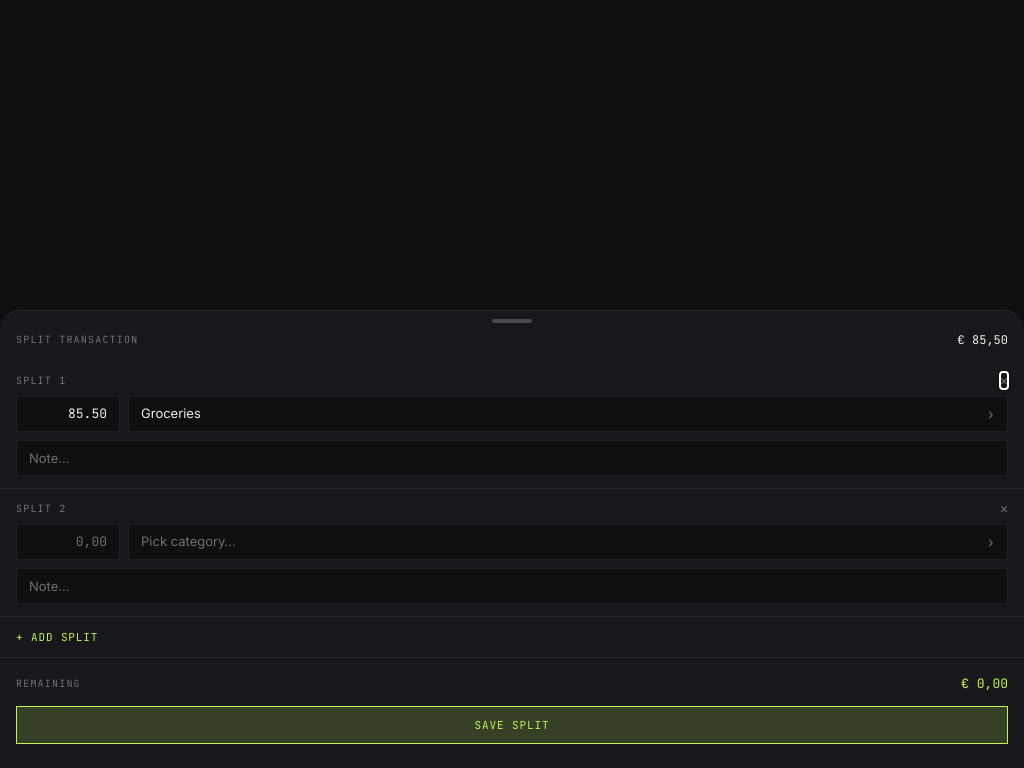
it: SplitEditorSheet › disables save while amounts do not sum to the transaction amount (live remainder)
The image size is (1024, 768).
Step 1. Replace the text in the field named "Amount for split 1" with "65" → (68, 414), box [16, 396, 120, 432]
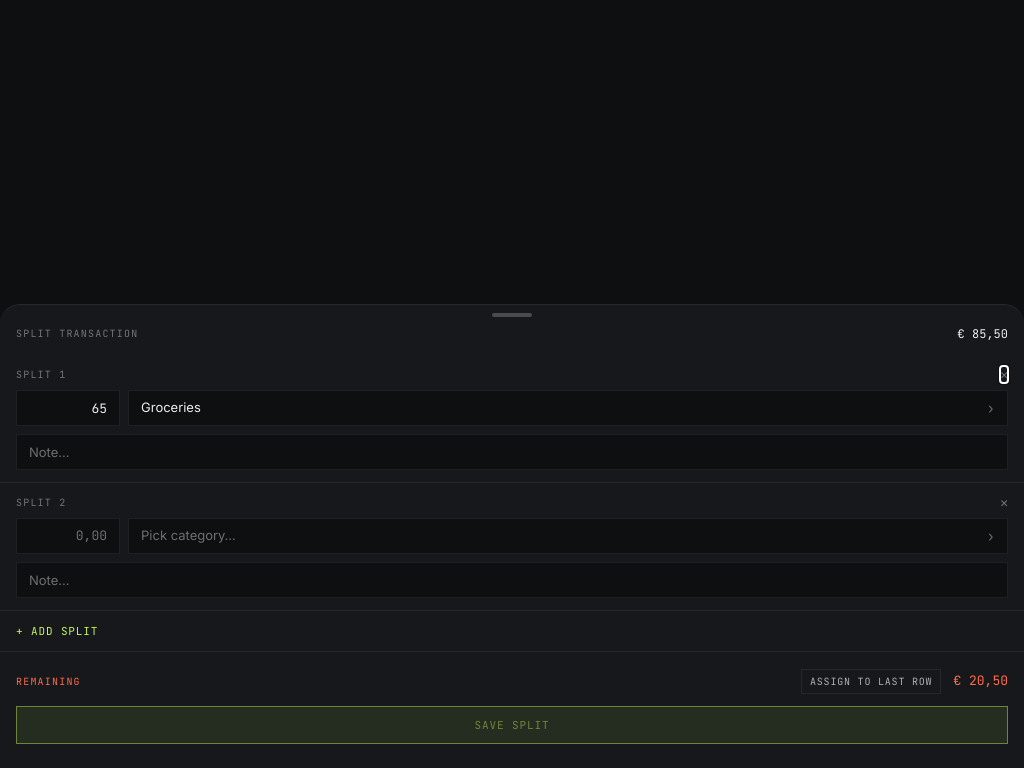
Expected: the text "€ 20,50" is shown, [953, 671, 1008, 691]
Expected: the button with test id "split-save" is disabled, [16, 706, 1008, 744]
